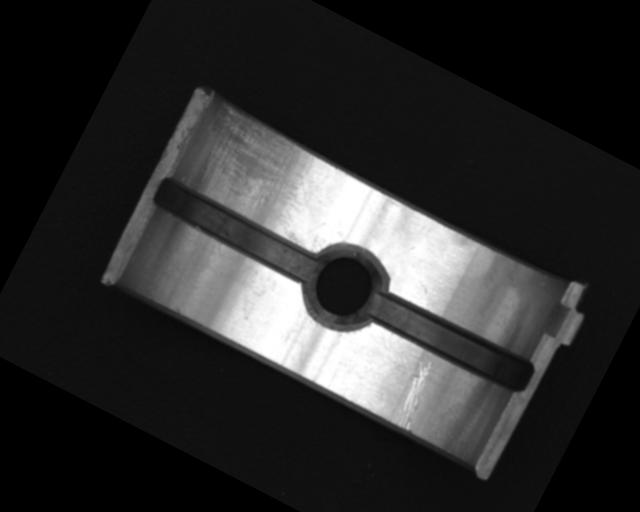gap: (148, 173, 324, 289), (365, 285, 538, 399)
hole: (290, 231, 400, 341)
nick: (387, 356, 442, 433)
scratch: (175, 94, 343, 245)
